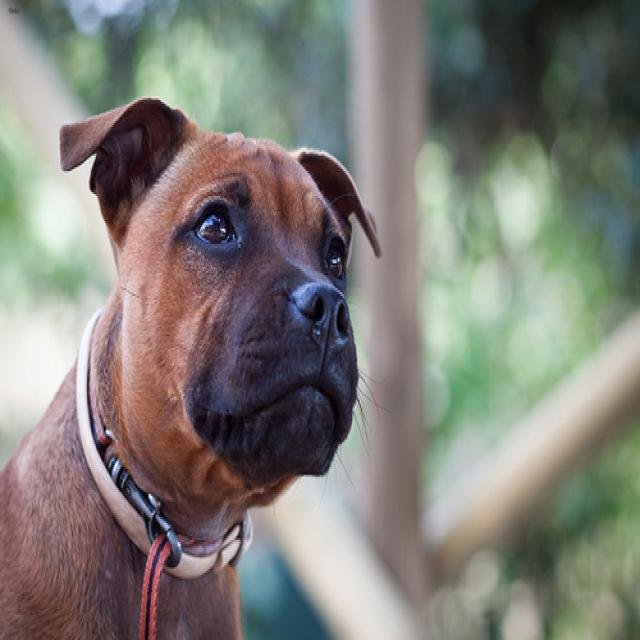dog-staffordshire_bull_terrier: (1, 83, 390, 636)
